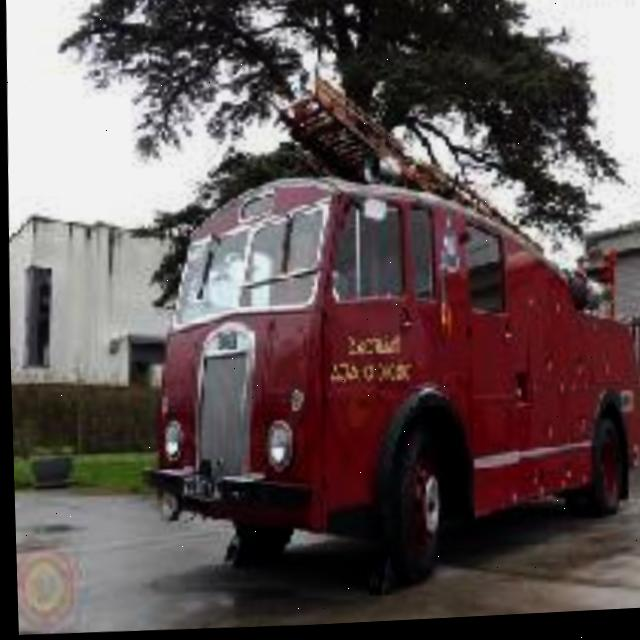emergency: (147, 152, 640, 588)
